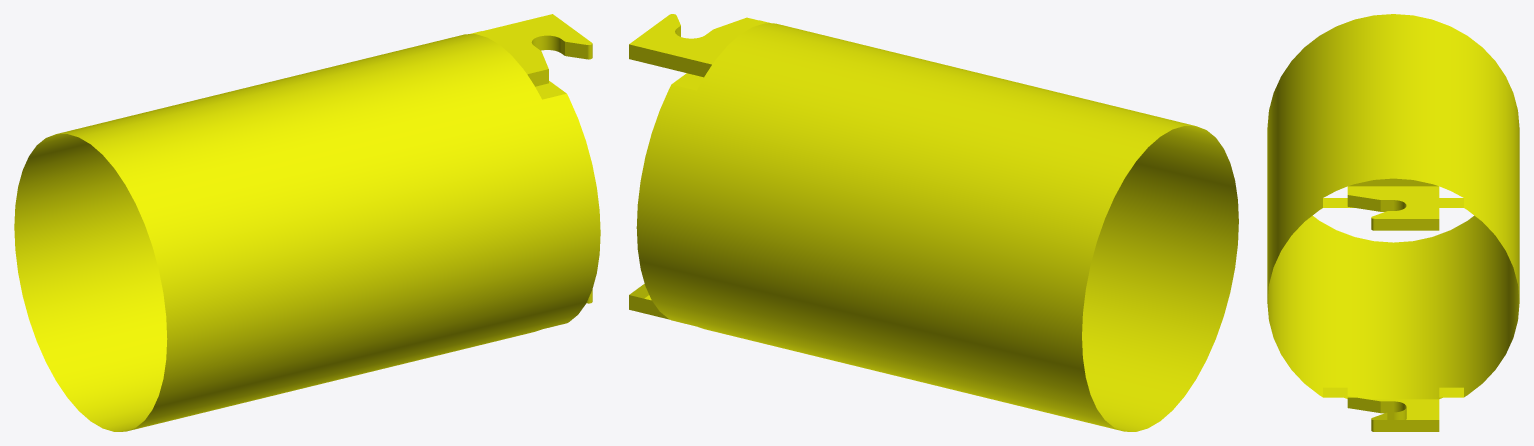
Rendered from body_6.obj.
3 views of the same model, side by side, from view 1: azimuth 30°, elevation 25°; view 2: azimuth 150°, elevation 25°; view 3: azimuth 270°, elevation 25° (orthographic). The views are drawn at different scales.
Parts seen in each view (by area): view 1: Body_3; view 2: Body_3; view 3: Body_3.
Boxes of the visible parts, box(x1,y1,x2,y2) form: Body_3: box(14, 14, 600, 431); Body_3: box(629, 14, 1238, 431); Body_3: box(1267, 14, 1519, 431).
Size of the model in its own units: 0.357 by 0.193 by 0.193.
